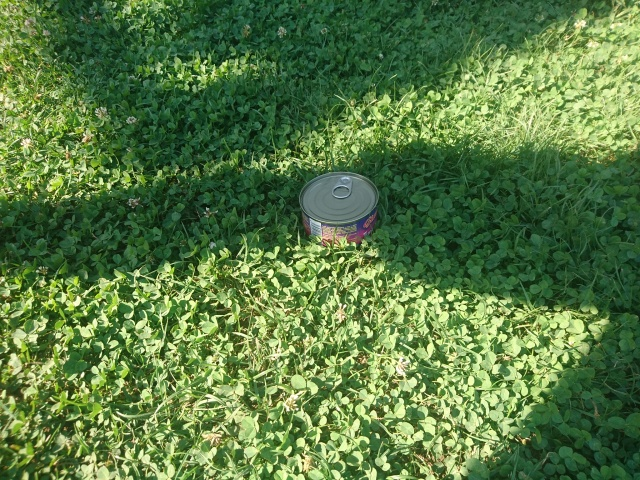Giana Tuna Salad Mexico 185g: (295, 169, 382, 253)
